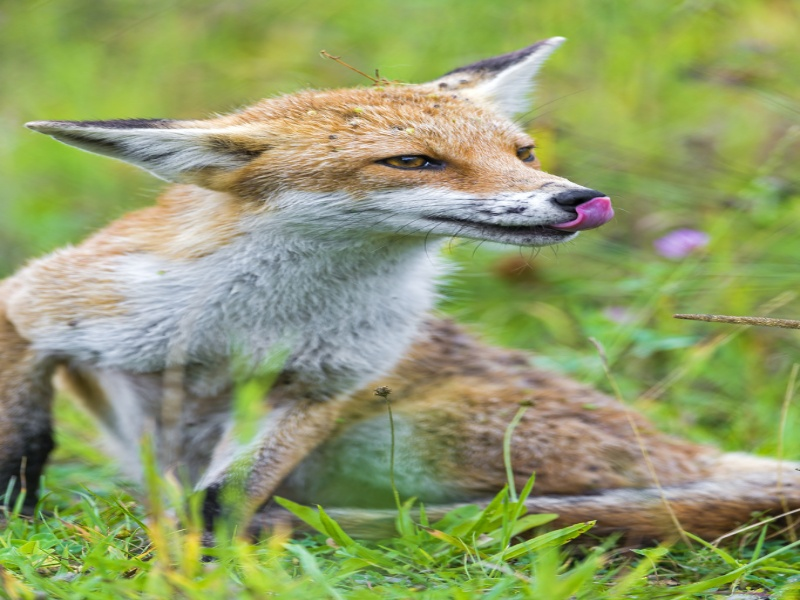fox: (3, 35, 787, 566)
